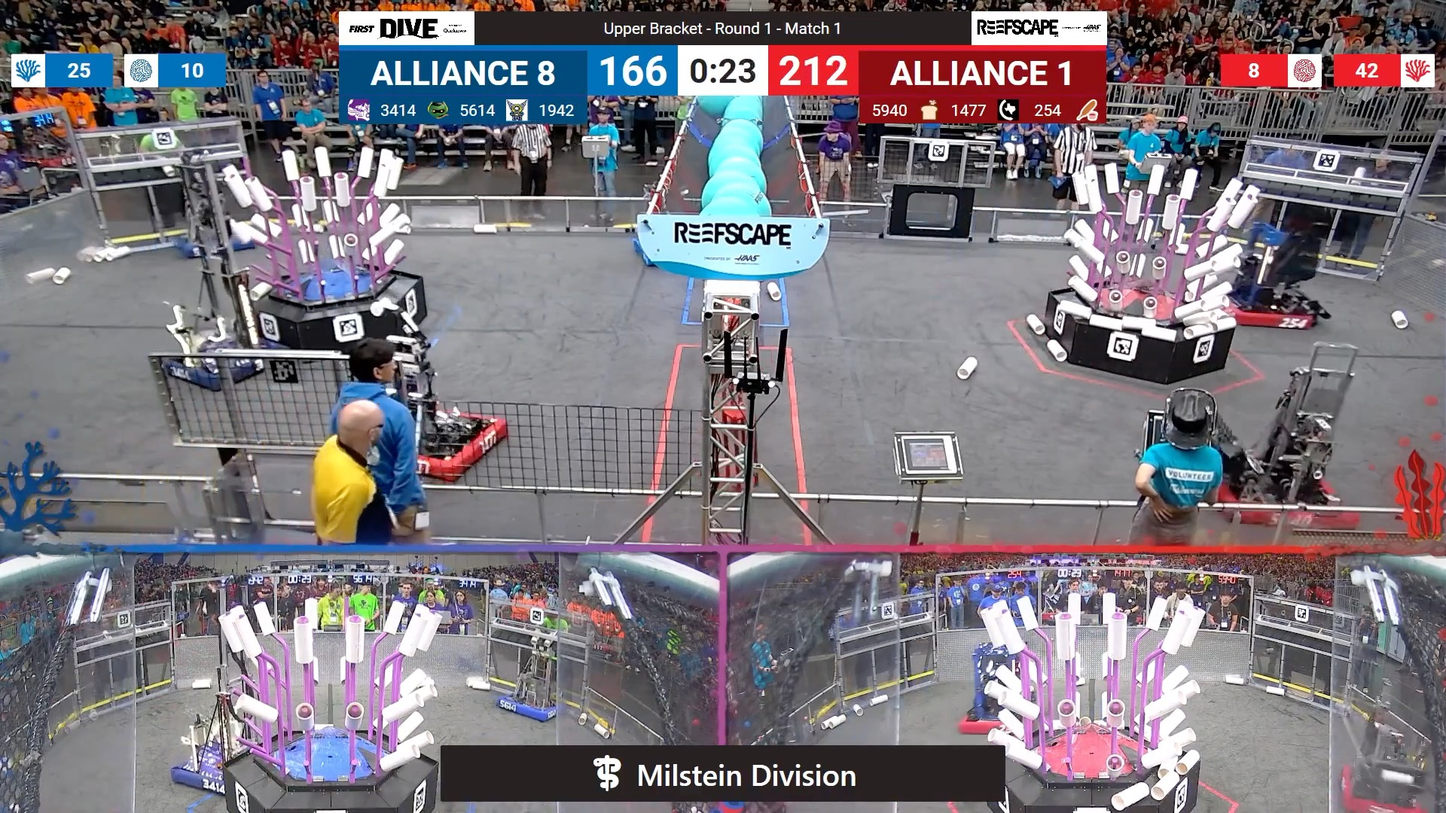bumpers: (1206, 457, 1349, 537), (374, 410, 509, 479), (156, 343, 284, 389), (1219, 290, 1328, 341), (1330, 759, 1424, 813), (172, 744, 251, 791), (956, 705, 1046, 744), (495, 693, 571, 727)
